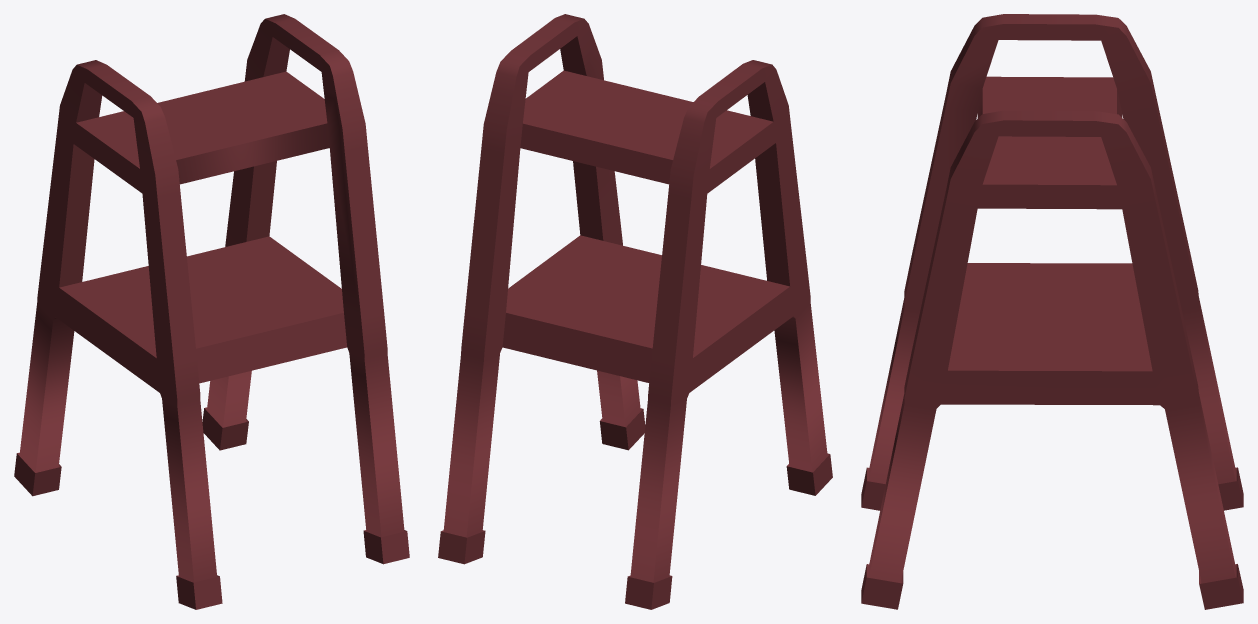
File: Rangements.fbx
The picture shows the model from 3 angles, left to right: view 1: azimuth 30°, elevation 25°; view 2: azimuth 150°, elevation 25°; view 3: azimuth 270°, elevation 25°; orthographic projection. The views are drawn at different scales.
Visible parts, largest first — view 1: Table; view 2: Table; view 3: Table.
Boxes of the visible parts, x1=… form: Table: x1=14, y1=14, x2=409, y2=609; Table: x1=438, y1=14, x2=832, y2=609; Table: x1=861, y1=14, x2=1243, y2=609.
Size of the model in its own units: 33.79 by 49.84 by 70.22.
